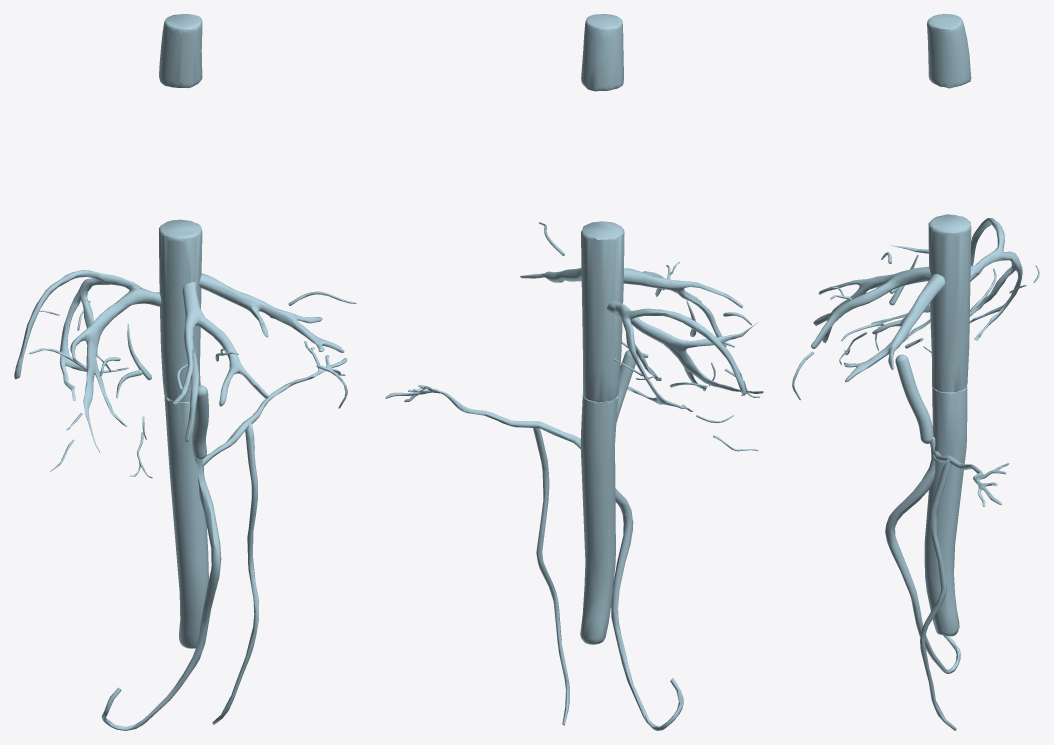
The model's file is veins.glb.
The picture shows the model from 3 angles, left to right: view 1: azimuth 30°, elevation 25°; view 2: azimuth 150°, elevation 25°; view 3: azimuth 270°, elevation 25°; orthographic projection. The views are drawn at different scales.
Parts seen in each view (by area): view 1: FJ3659_Inferior_vena_cava, FJ3441_Inferior_vena_cava, FJ2416_Right_hepatic_vein, FJ2414_Middle_hepatic_vein, FJ3645_Superior_vena_cava, FJ3647_Superior_mesenteric_vein, FJ2415_Left_hepatic_vein, FJ3443_Inferior_mesenteric_vein, FJ1913_Right_portal_vein, FJ3641_Splenic_vein, FJ1853_Hepatic_portal_vein; view 2: FJ3659_Inferior_vena_cava, FJ3441_Inferior_vena_cava, FJ2416_Right_hepatic_vein, FJ3645_Superior_vena_cava, FJ3647_Superior_mesenteric_vein, FJ3443_Inferior_mesenteric_vein, FJ2414_Middle_hepatic_vein, FJ3641_Splenic_vein, FJ1913_Right_portal_vein; view 3: FJ3441_Inferior_vena_cava, FJ3659_Inferior_vena_cava, FJ3645_Superior_vena_cava, FJ2416_Right_hepatic_vein, FJ3647_Superior_mesenteric_vein, FJ2414_Middle_hepatic_vein, FJ2415_Left_hepatic_vein, FJ3443_Inferior_mesenteric_vein, FJ1853_Hepatic_portal_vein, FJ3641_Splenic_vein, FJ1913_Right_portal_vein, FJ1893_Left_portal_vein.
Boxes of the visible parts, x1=… form: FJ3659_Inferior_vena_cava: x1=164, y1=396, x2=208, y2=648; FJ3441_Inferior_vena_cava: x1=159, y1=219, x2=202, y2=401; FJ2416_Right_hepatic_vein: x1=14, y1=270, x2=161, y2=452; FJ2414_Middle_hepatic_vein: x1=172, y1=282, x2=268, y2=441; FJ3645_Superior_vena_cava: x1=159, y1=14, x2=202, y2=88; FJ3647_Superior_mesenteric_vein: x1=101, y1=457, x2=221, y2=730; FJ2415_Left_hepatic_vein: x1=199, y1=273, x2=344, y2=352; FJ3443_Inferior_mesenteric_vein: x1=212, y1=423, x2=258, y2=724; FJ1913_Right_portal_vein: x1=29, y1=301, x2=152, y2=478; FJ3641_Splenic_vein: x1=202, y1=341, x2=347, y2=466; FJ1853_Hepatic_portal_vein: x1=192, y1=385, x2=208, y2=459; FJ3659_Inferior_vena_cava: x1=580, y1=394, x2=618, y2=644; FJ3441_Inferior_vena_cava: x1=581, y1=221, x2=624, y2=401; FJ2416_Right_hepatic_vein: x1=607, y1=300, x2=763, y2=411; FJ3645_Superior_vena_cava: x1=581, y1=14, x2=623, y2=91; FJ3647_Superior_mesenteric_vein: x1=611, y1=488, x2=683, y2=730; FJ3443_Inferior_mesenteric_vein: x1=533, y1=428, x2=569, y2=725; FJ2414_Middle_hepatic_vein: x1=623, y1=268, x2=742, y2=347; FJ3641_Splenic_vein: x1=385, y1=385, x2=580, y2=449; FJ1913_Right_portal_vein: x1=613, y1=300, x2=760, y2=451; FJ3441_Inferior_vena_cava: x1=928, y1=214, x2=971, y2=392; FJ3659_Inferior_vena_cava: x1=924, y1=386, x2=967, y2=636; FJ3645_Superior_vena_cava: x1=927, y1=14, x2=971, y2=88; FJ2416_Right_hepatic_vein: x1=871, y1=218, x2=1022, y2=342; FJ3647_Superior_mesenteric_vein: x1=885, y1=437, x2=960, y2=673; FJ2414_Middle_hepatic_vein: x1=811, y1=266, x2=931, y2=348; FJ2415_Left_hepatic_vein: x1=844, y1=274, x2=945, y2=382; FJ3443_Inferior_mesenteric_vein: x1=920, y1=459, x2=956, y2=730; FJ1853_Hepatic_portal_vein: x1=895, y1=354, x2=933, y2=443; FJ3641_Splenic_vein: x1=933, y1=451, x2=1009, y2=506; FJ1913_Right_portal_vein: x1=839, y1=252, x2=1039, y2=364; FJ1893_Left_portal_vein: x1=792, y1=286, x2=883, y2=400.
Size of the model in its own units: 0.2081 by 0.4093 by 0.1325.
